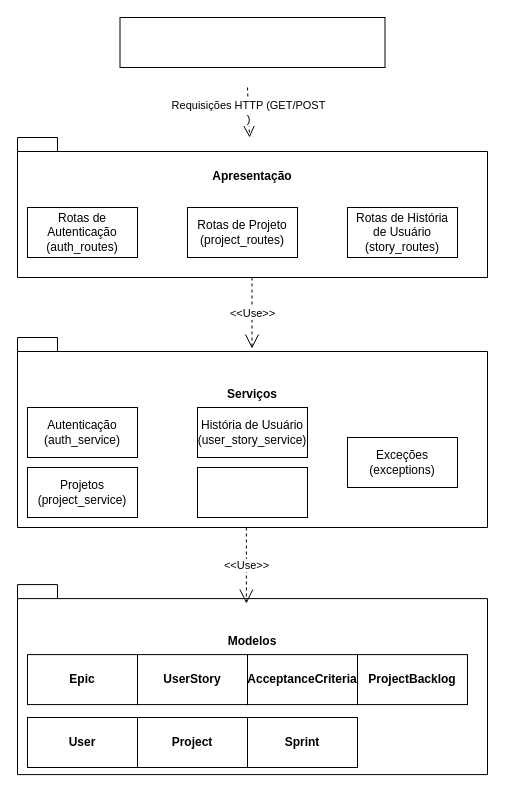
Image size: 505x793. Some labels were removed from this diagram. Here are the shapes that lost their labels. From the top down, the centre of each, then its label:
point 252,42: Navegador Web (HTML / CSS / JS )
point 252,492: Épicos (epic_service)
